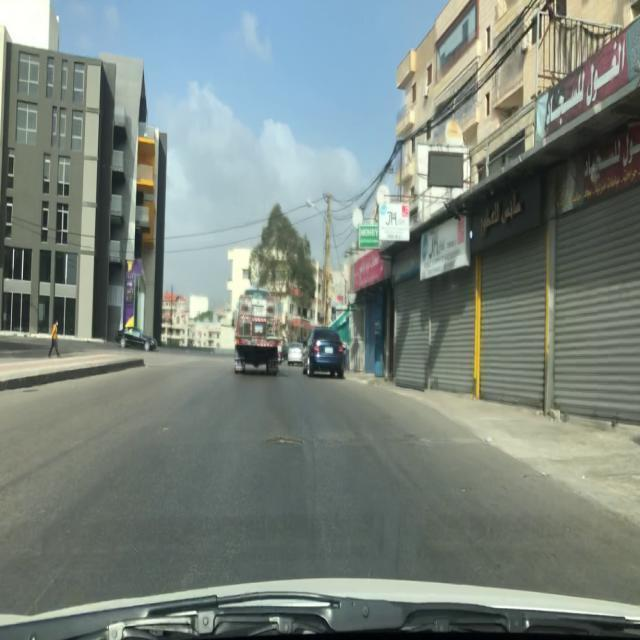pothole: (261, 434, 306, 450)
